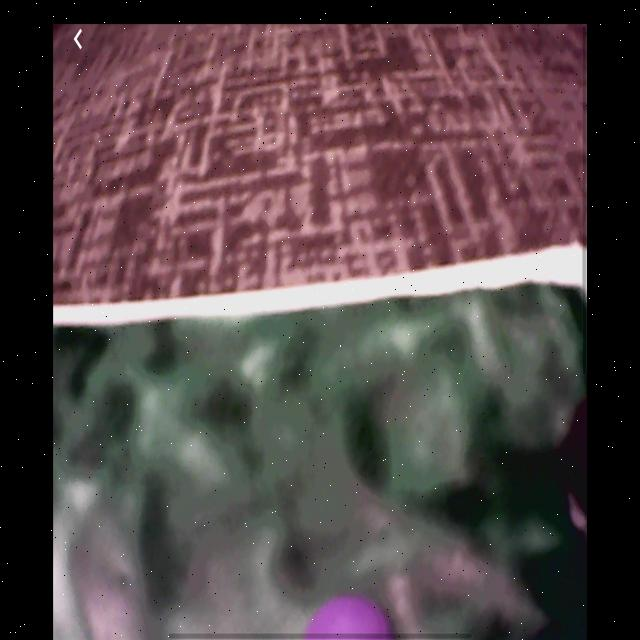ball: (304, 594, 394, 639)
